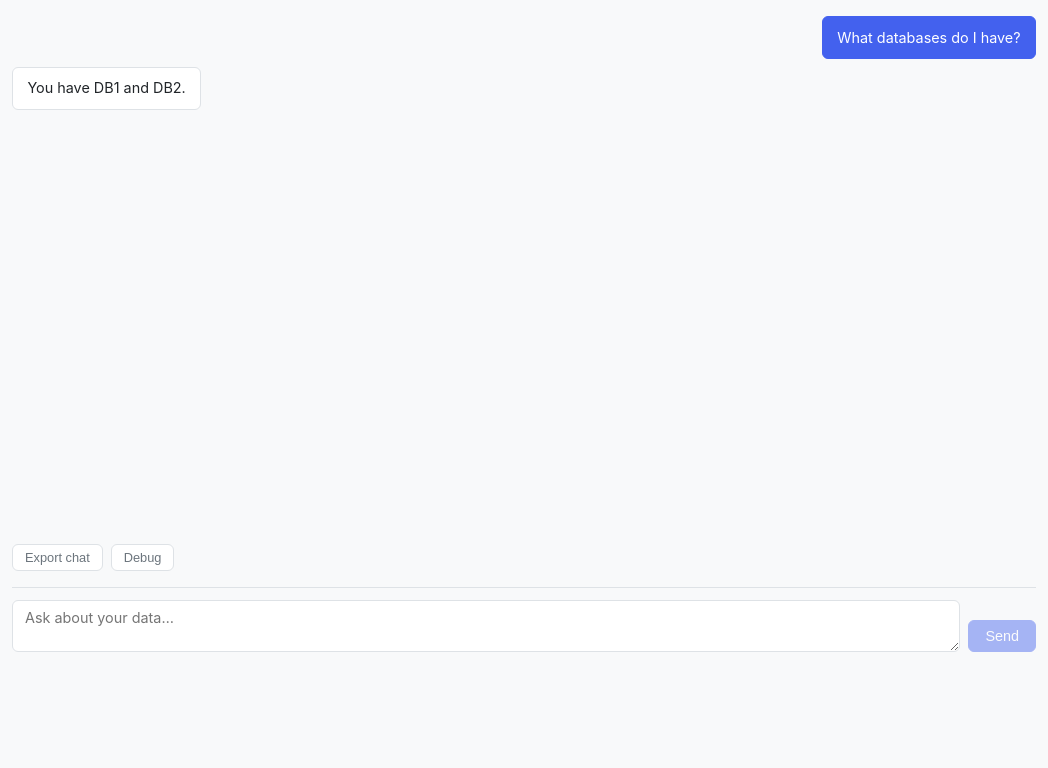
ExploreChat › should open debug panel when Debug is clicked
The image size is (1048, 768).
Click the button "Debug" at (143, 558), box [111,544,174,571]
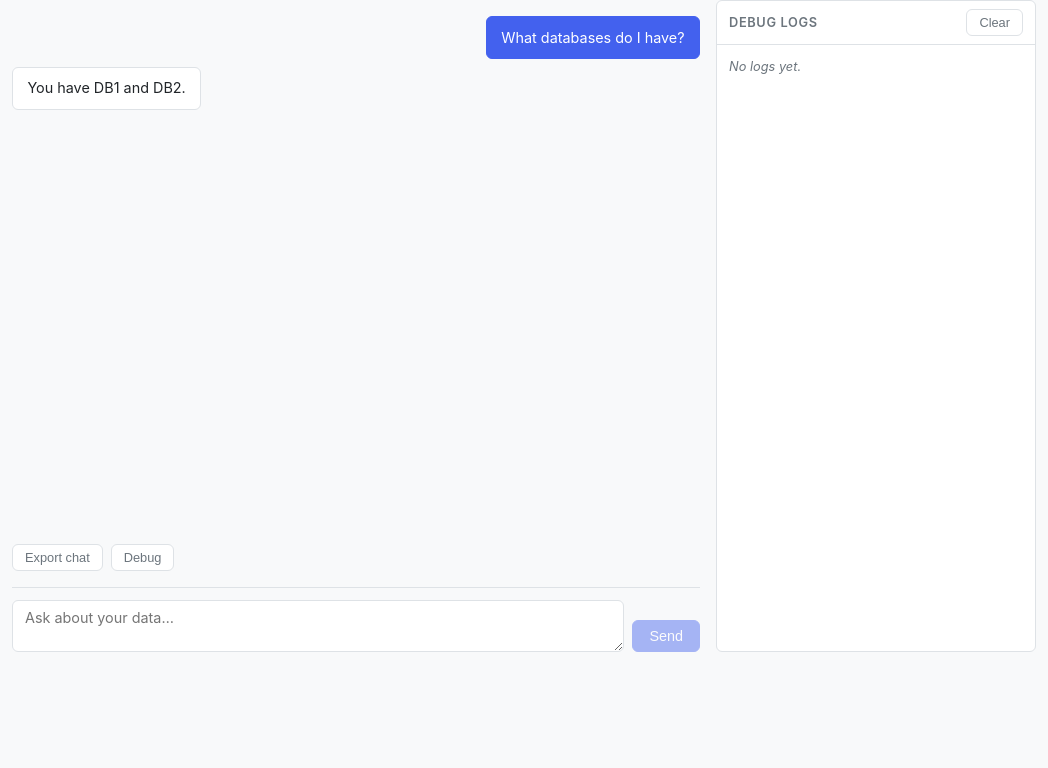
Check: the button "Clear" is shown, box [966,9,1023,36]
